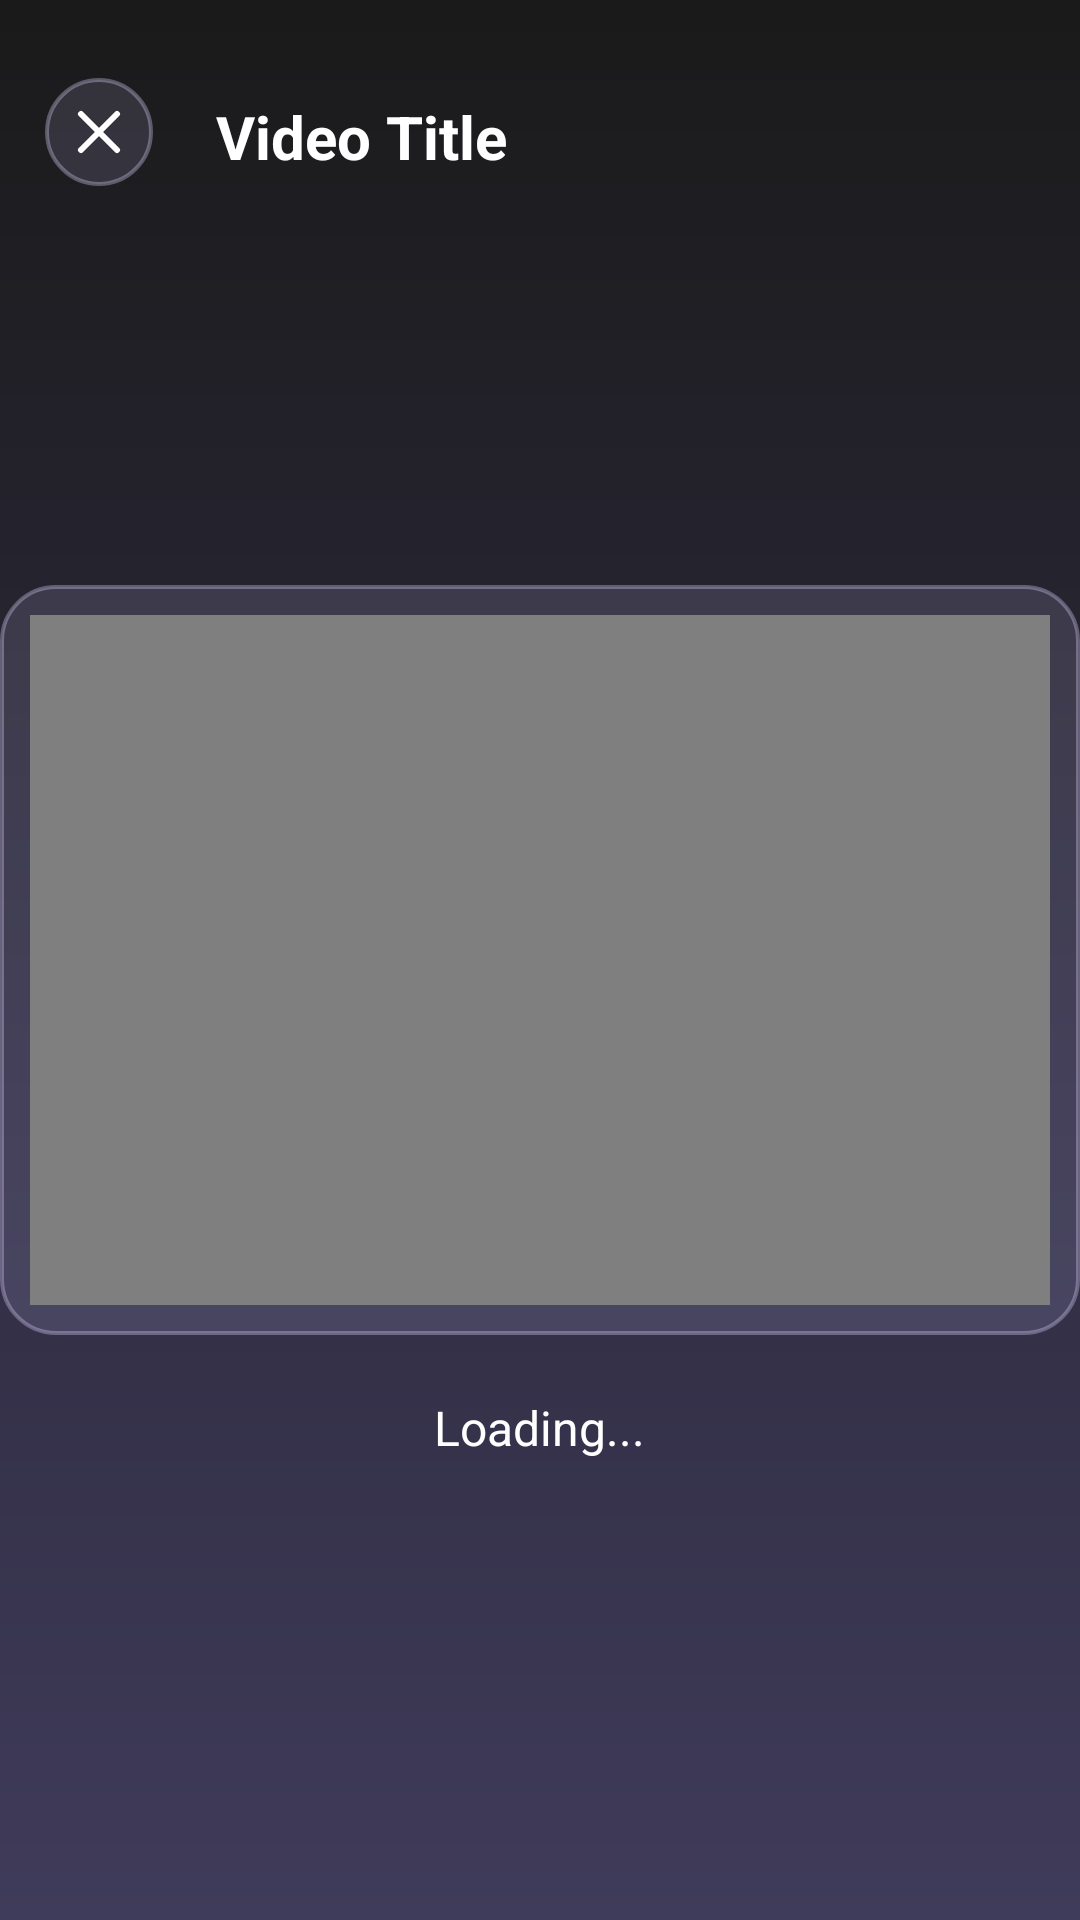

Point at icon controls on the screen. Image size 1080*1920, points as (x=x, y=y).
Close: (x=99, y=132)
